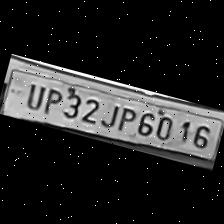0: (152, 110, 178, 140)
1: (173, 115, 194, 145)
2: (77, 92, 103, 124)
3: (58, 84, 84, 120)
6: (187, 119, 215, 151), (132, 105, 158, 137)
J: (98, 97, 122, 128)
P: (39, 82, 64, 116), (114, 101, 138, 133)
U: (20, 78, 48, 110)
